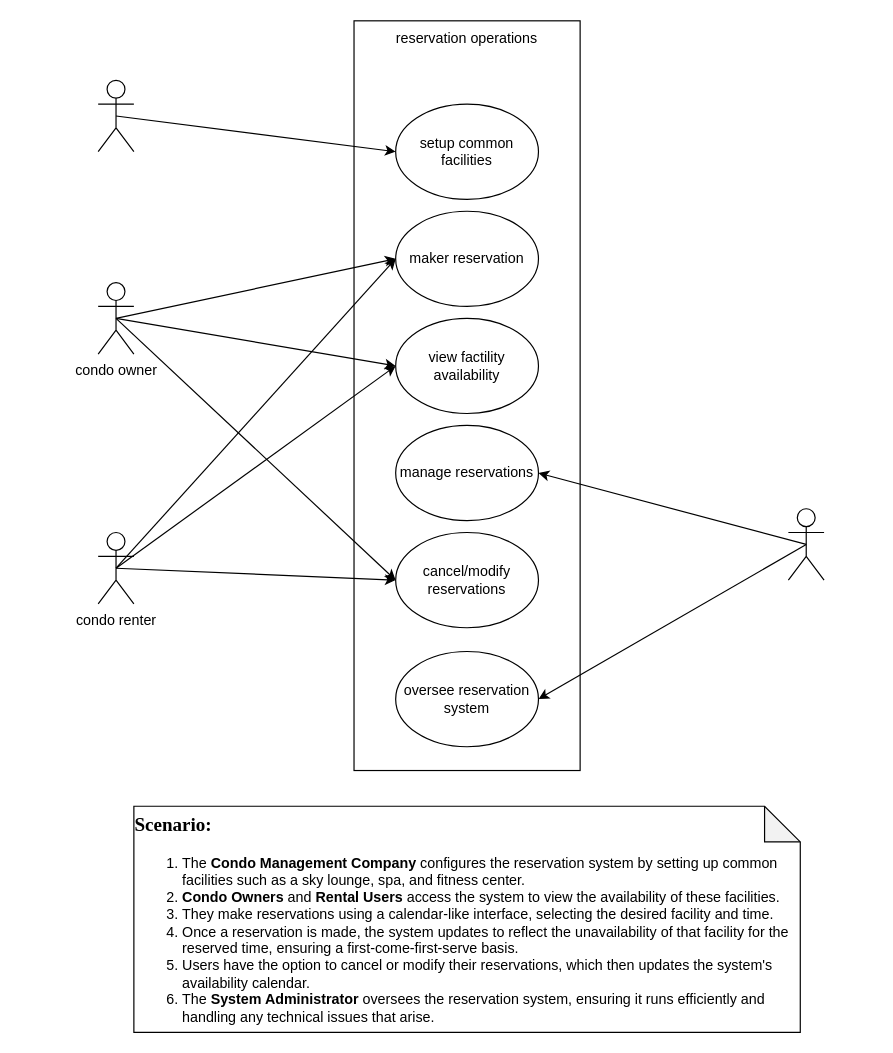
Image size: 893x1053. Some labels were removed from this diagram. Here are the shapes that lost their labels. From the top down, the box of each, then its label:
(97, 79, 134, 152): condo management company
(787, 508, 824, 580): system administrator
